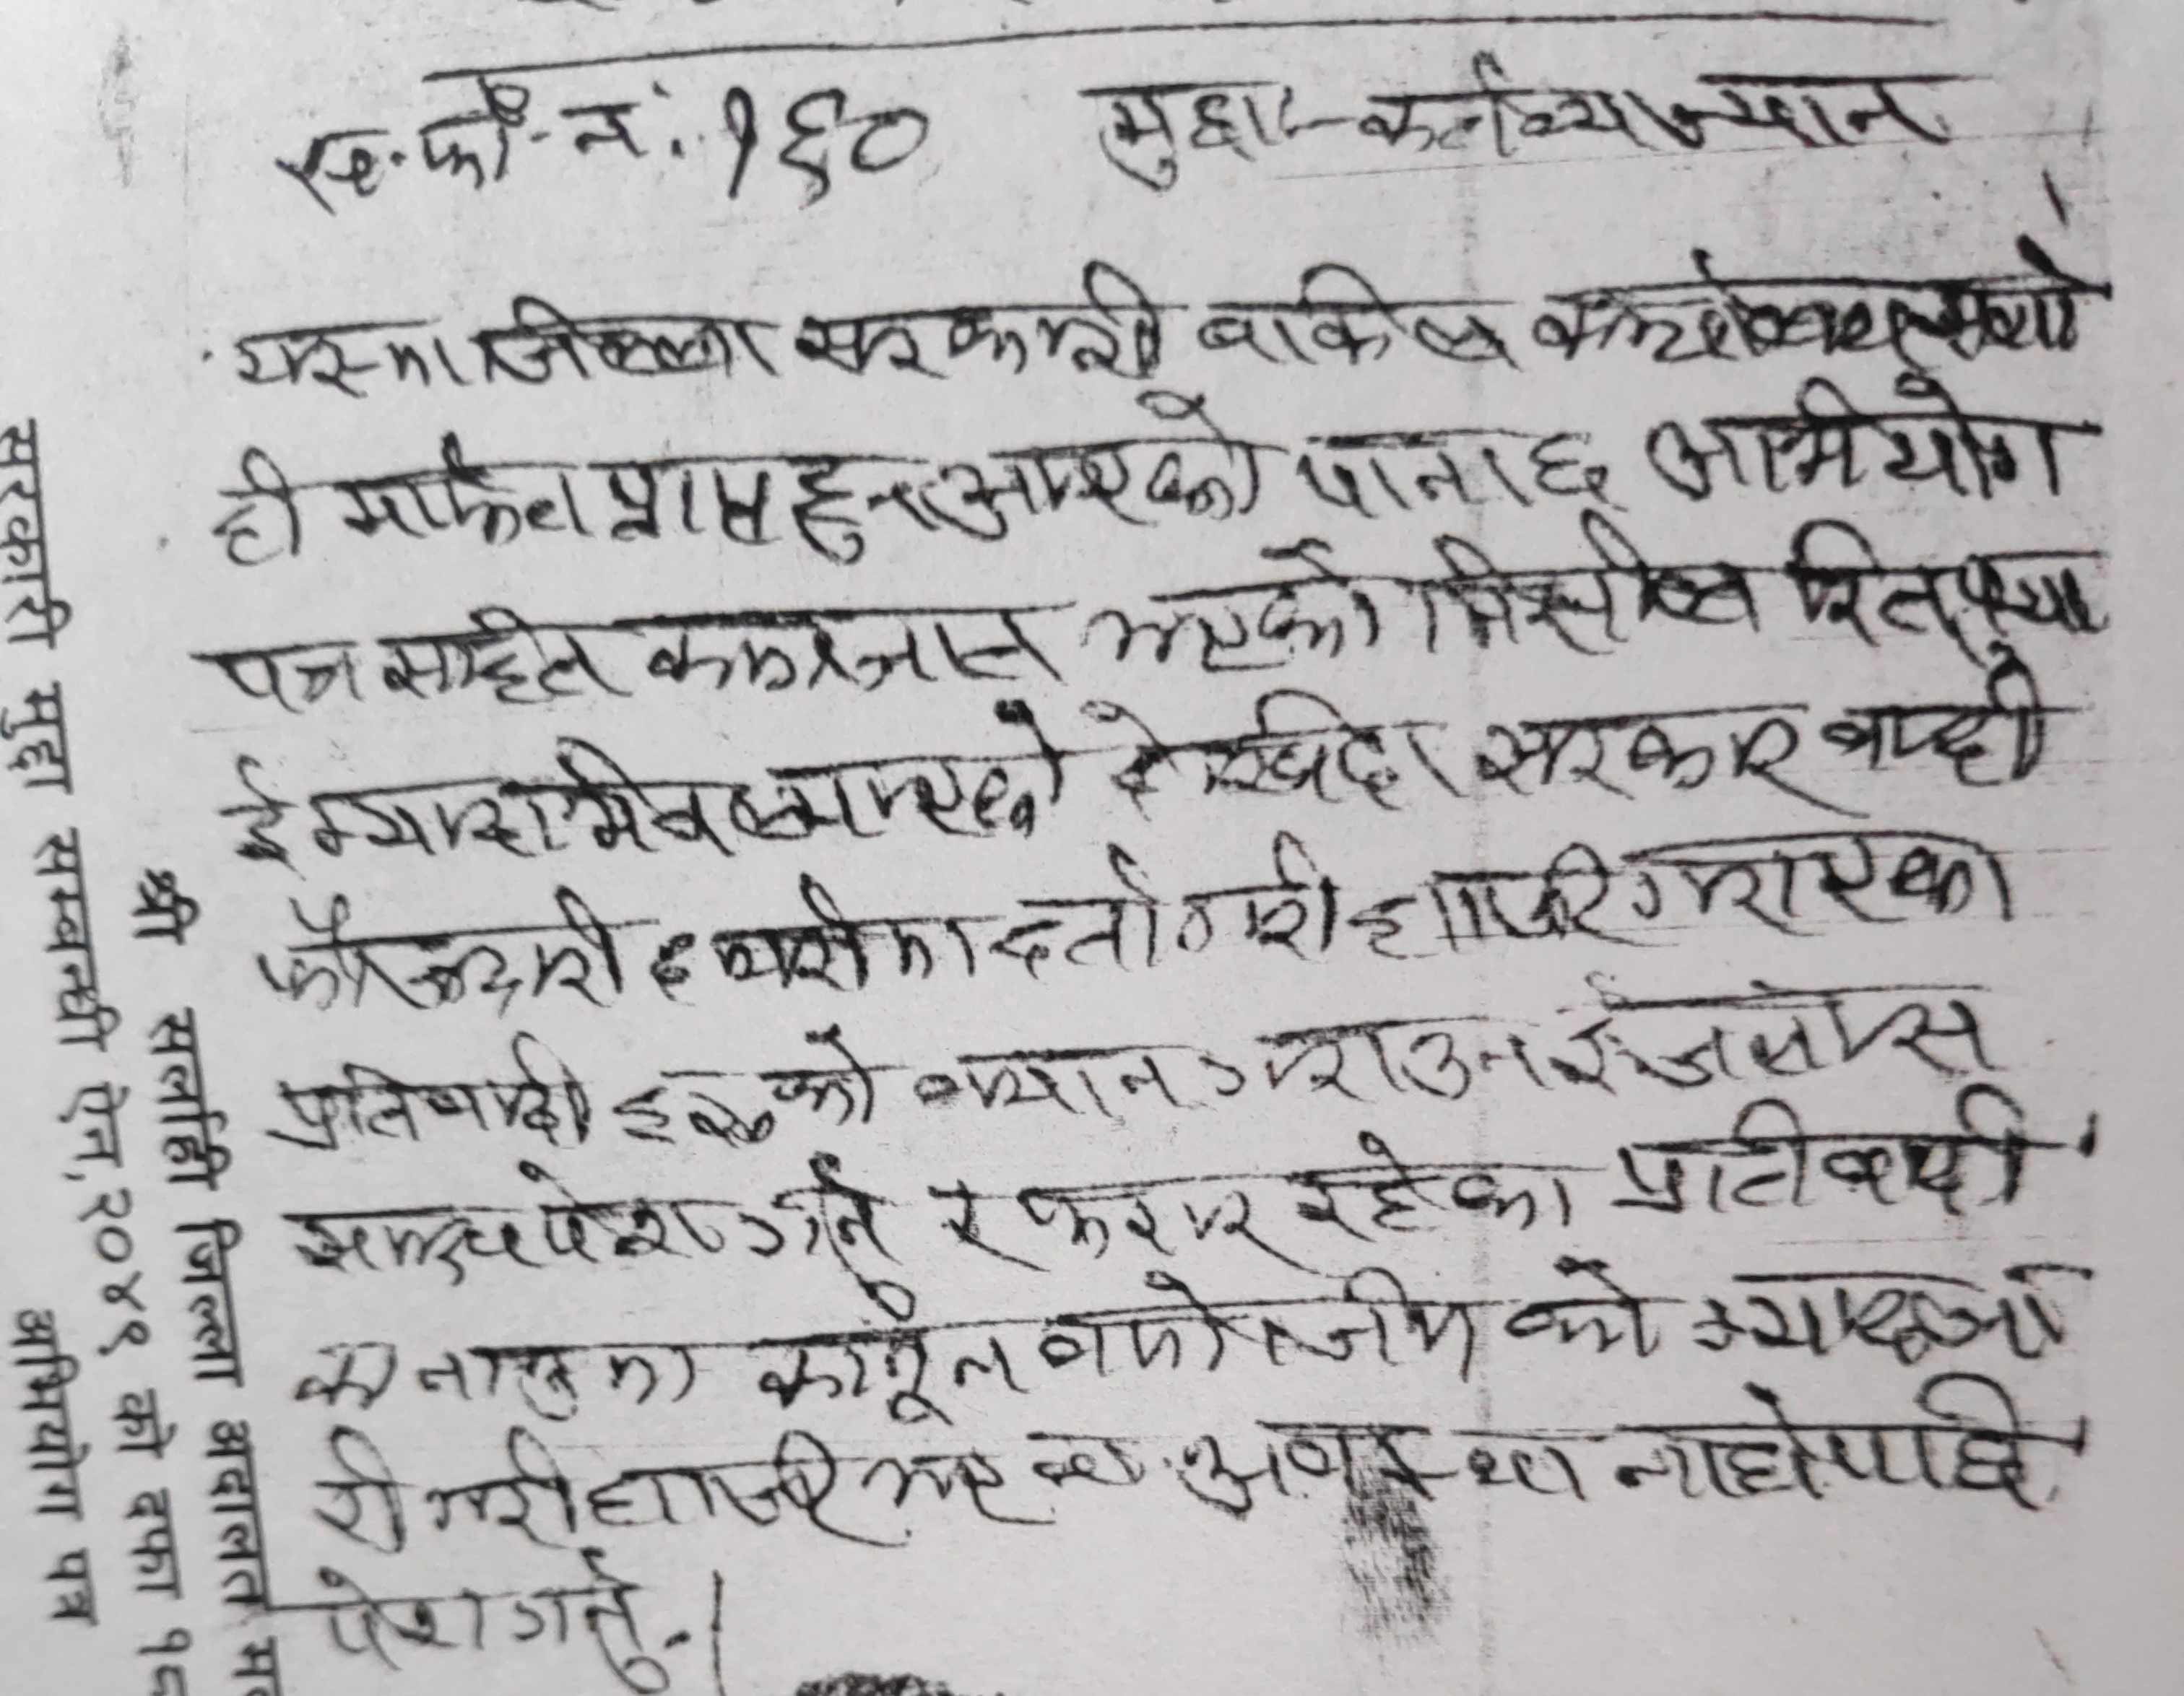text: (223, 695, 1078, 863), (791, 390, 1267, 562), (1333, 51, 1962, 168), (1615, 1377, 2046, 1517), (1603, 1092, 2032, 1228), (1553, 962, 2008, 1088), (1645, 374, 2078, 505), (1032, 1271, 1486, 1393), (1626, 805, 2026, 943), (269, 1157, 725, 1276), (1400, 516, 1767, 657), (273, 73, 652, 209), (785, 252, 1168, 385), (291, 1565, 670, 1696), (1682, 1251, 2088, 1372), (1774, 510, 2104, 650), (248, 890, 633, 1008), (1078, 693, 1462, 810), (628, 588, 1069, 689), (1170, 1414, 1595, 1517), (264, 1024, 596, 1155), (1078, 535, 1383, 673), (1186, 259, 1516, 379), (606, 1021, 885, 1154), (1280, 1129, 1585, 1249), (1473, 705, 1805, 813), (1347, 835, 1618, 966), (1193, 1008, 1548, 1108), (292, 1334, 702, 1418), (714, 874, 987, 989), (1821, 663, 2056, 792), (328, 431, 589, 548), (858, 1425, 1142, 1529), (745, 1319, 1018, 1425), (585, 1420, 847, 1529), (716, 78, 932, 211), (473, 294, 778, 388), (904, 1037, 1193, 1129), (1080, 78, 1306, 193), (1168, 824, 1342, 971), (984, 847, 1163, 982), (1285, 420, 1521, 521), (376, 604, 612, 705), (590, 436, 775, 556), (1018, 1173, 1269, 1256), (223, 312, 459, 399), (737, 1150, 901, 1271), (427, 1423, 578, 1551), (1501, 1251, 1663, 1366), (300, 1435, 422, 1565), (207, 445, 310, 578), (207, 634, 360, 720), (1519, 429, 1634, 503), (927, 1171, 1002, 1267), (643, 916, 707, 1010)
